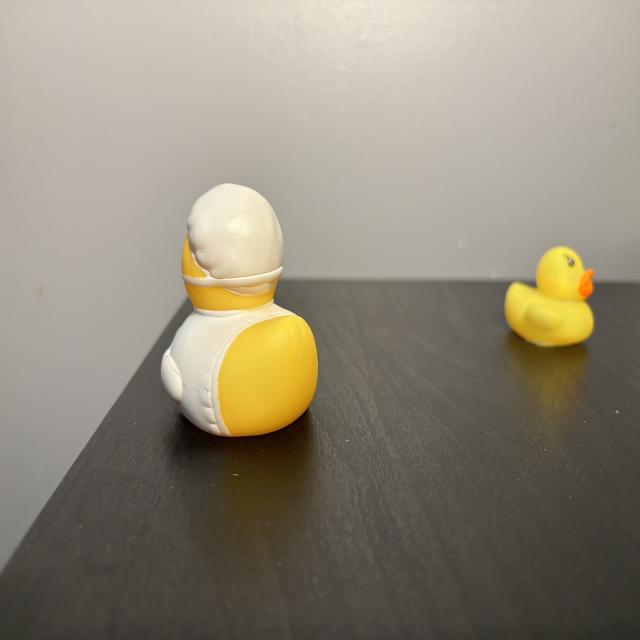duck_regular: (506, 247, 594, 347)
duck_specialty: (162, 185, 319, 437)
